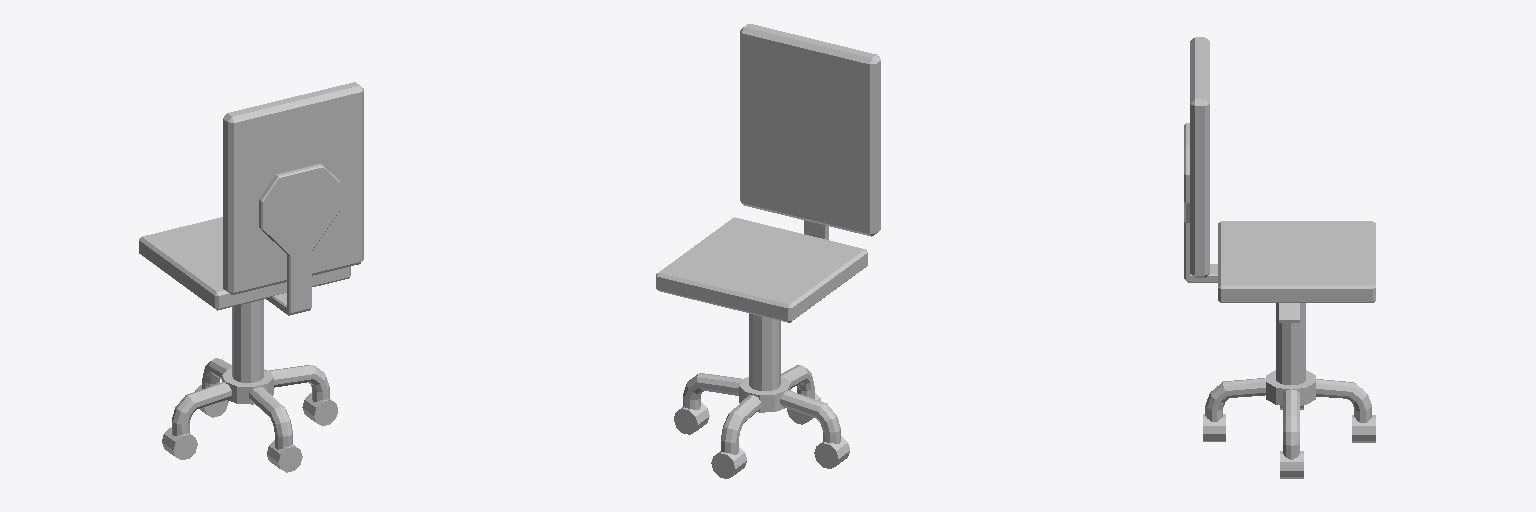
File: desk chair.obj
3 views of the same model, side by side, from view 1: azimuth 30°, elevation 25°; view 2: azimuth 150°, elevation 25°; view 3: azimuth 270°, elevation 25° (orthographic).
Parts seen in each view (by area): view 1: Desk_chair1; view 2: Desk_chair1; view 3: Desk_chair1.
Boxes of the visible parts, x1=… form: Desk_chair1: x1=139, y1=82, x2=363, y2=472; Desk_chair1: x1=656, y1=24, x2=880, y2=478; Desk_chair1: x1=1184, y1=37, x2=1375, y2=478.
Size of the model in its own units: 48.34 by 104 by 48.68.